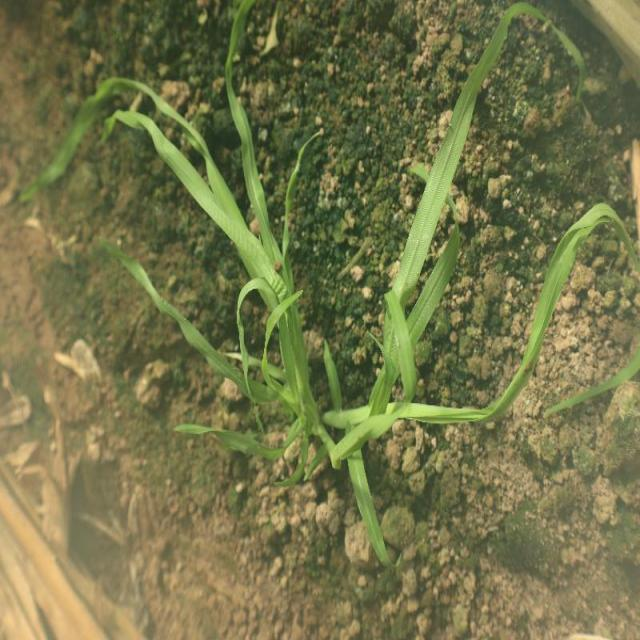crop: (27, 2, 638, 574)
